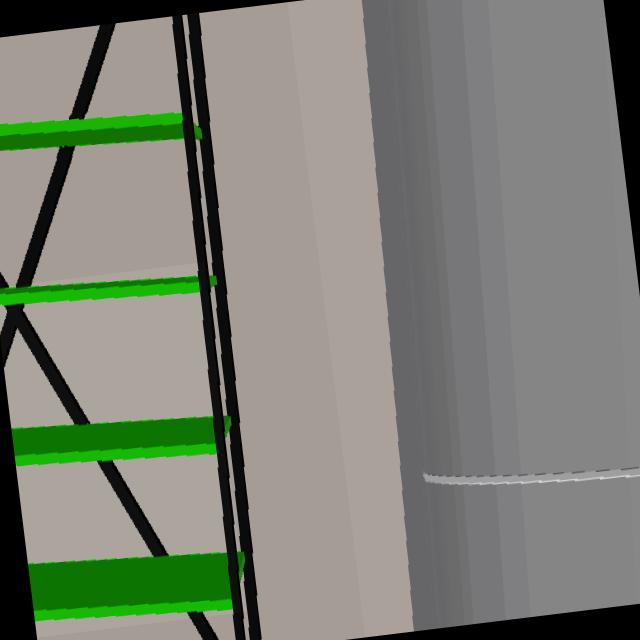fridge: (361, 0, 640, 634)
shelf: (0, 277, 232, 625), (0, 114, 185, 155)
